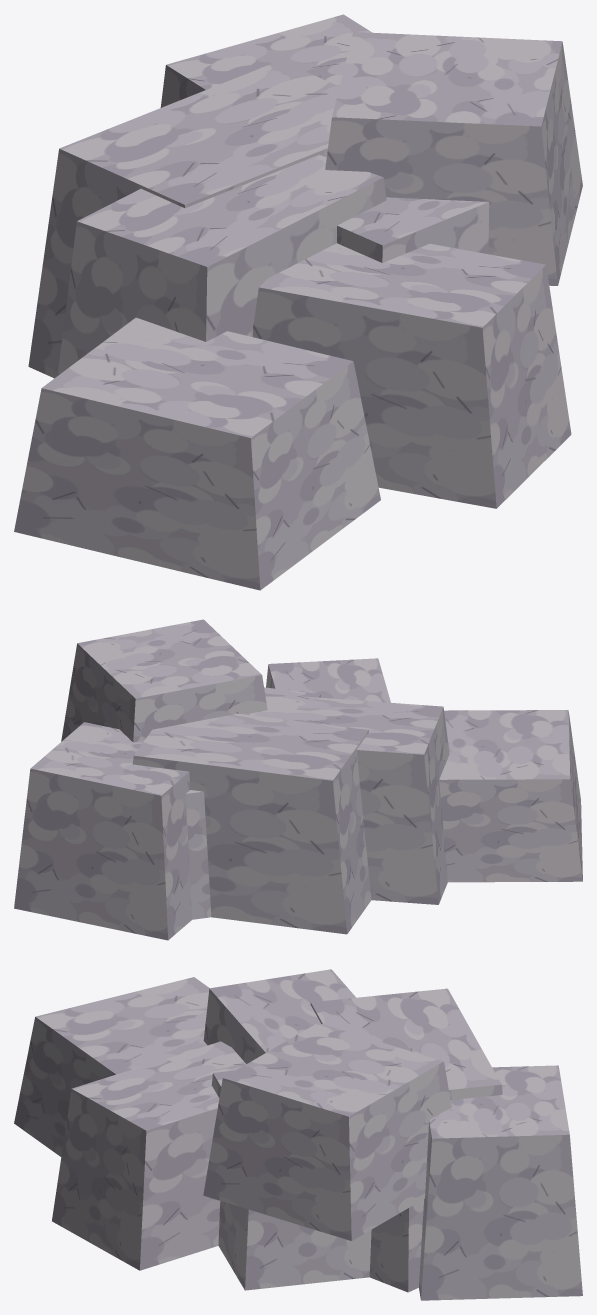
The model's file is rubble.glb.
The picture shows the model from 3 angles, top to bottom: view 1: azimuth 30°, elevation 25°; view 2: azimuth 150°, elevation 25°; view 3: azimuth 270°, elevation 25°; orthographic projection. The views are drawn at different scales.
Parts seen in each view (by area): view 1: rubble; view 2: rubble; view 3: rubble.
Part boxes in pixels (<box>): rubble: <box>14,14,582,590</box>; rubble: <box>14,619,582,940</box>; rubble: <box>14,969,582,1300</box>.
Size of the model in its own units: 1.88 by 0.7069 by 1.81.
Materials: 1 (1 with a texture image).
